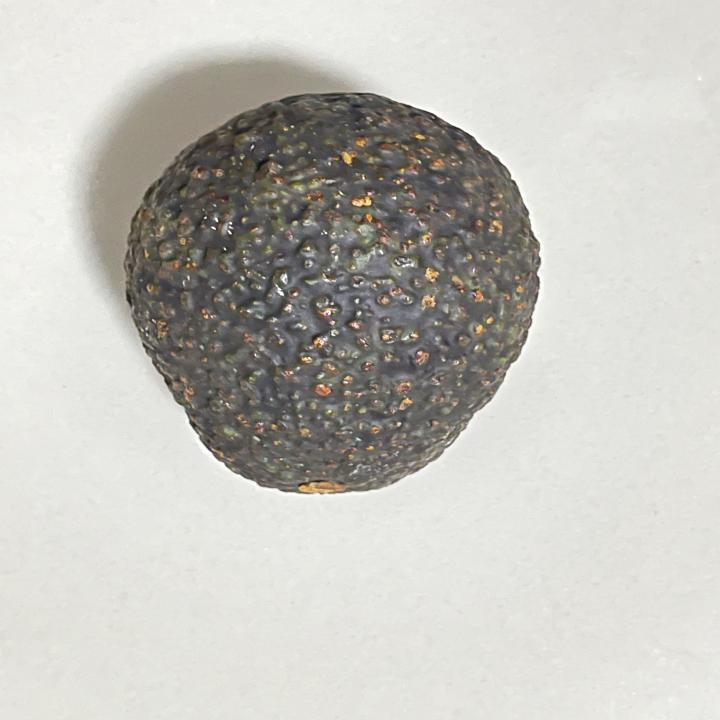Level1: (114, 83, 562, 513)
